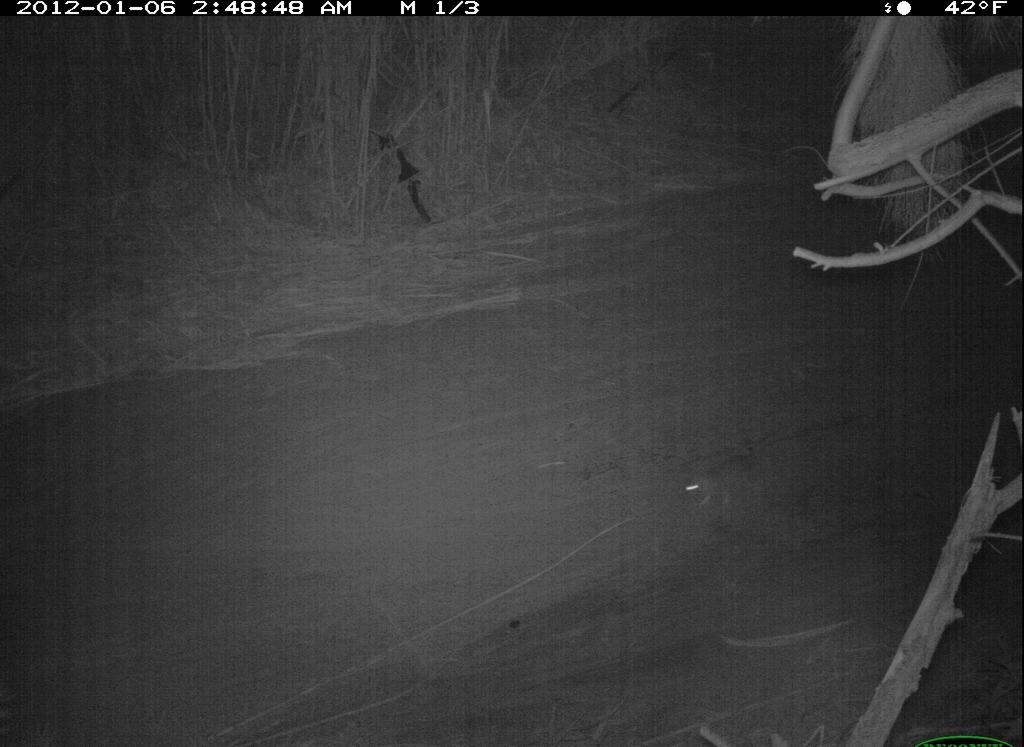rabbit: (669, 437, 806, 528)
